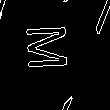M_E: (28, 26, 80, 75)
